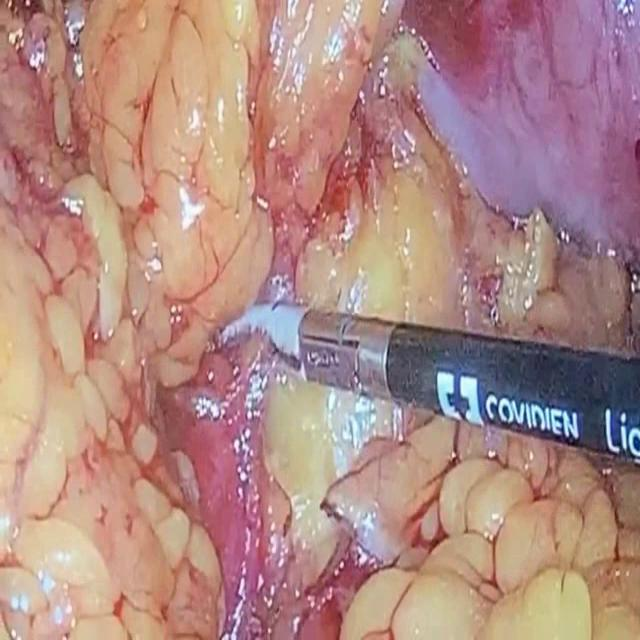surgical-tool: (222, 300, 640, 462)
